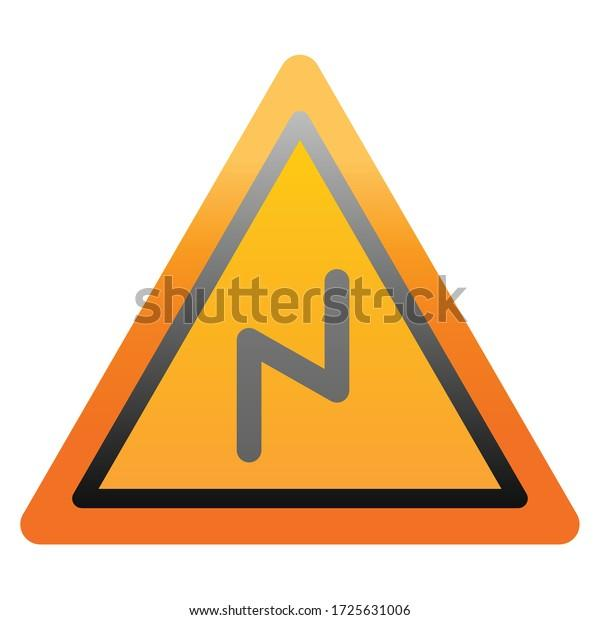Right Reverse Bend: (80, 66, 551, 540)
